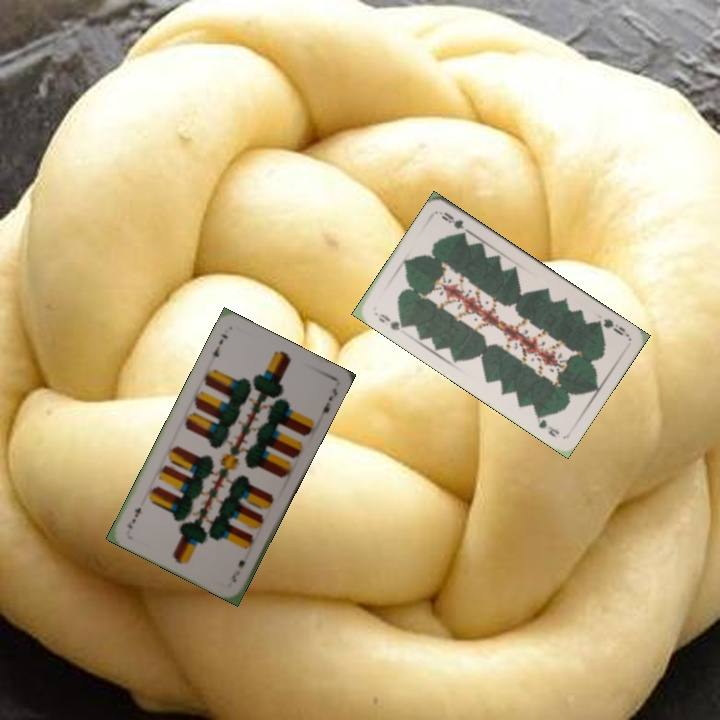E7: (209, 330, 230, 360), (228, 556, 248, 585)
G9: (370, 308, 409, 333), (591, 315, 631, 339)
